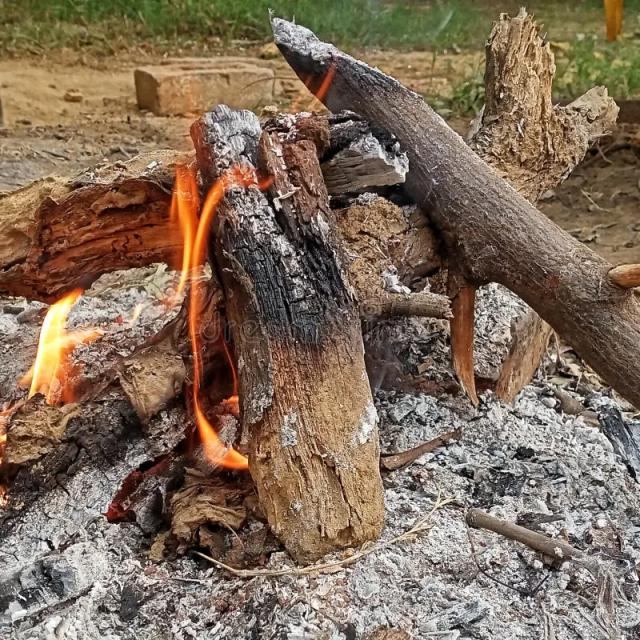fire: (166, 163, 274, 471), (19, 289, 102, 404), (293, 56, 337, 124)
